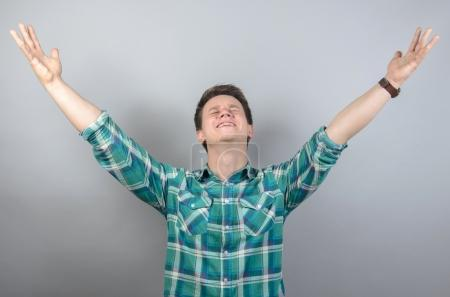handsup: (10, 16, 445, 297)
